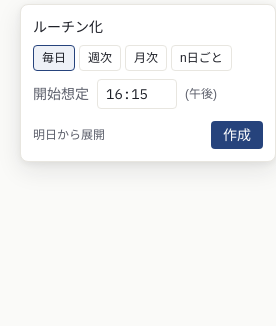
Scenario: RoutinizePopover（画面定義書01 §4.1 / O-12: 最小の入力でタスクからルーチンを作る） › 入力の検証（§4.1: 不正なら確定させずポップオーバー内に出す） › weekdays_required: 週次で曜日を1つも選んでいない
What coordinates should you click on to do the following:
click the button "週次"
I would click on:
 (100, 58)
Its box is [79,45,121,71].
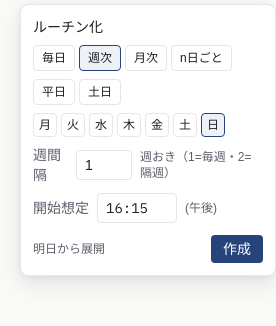
What coordinates should you click on to do the following:
click the button "日"
I would click on:
 (213, 125)
Its box is [201,113,225,137].
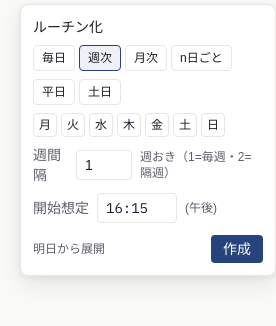
What coordinates should you click on to do the following:
click the button "作成"
I would click on:
 (237, 249)
Its box is [211,235,263,263].
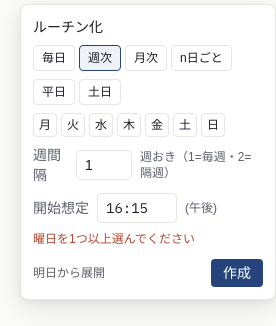
Result: the text "曜日を1つ以上選んでください" is shown at [33,232,195,246]
